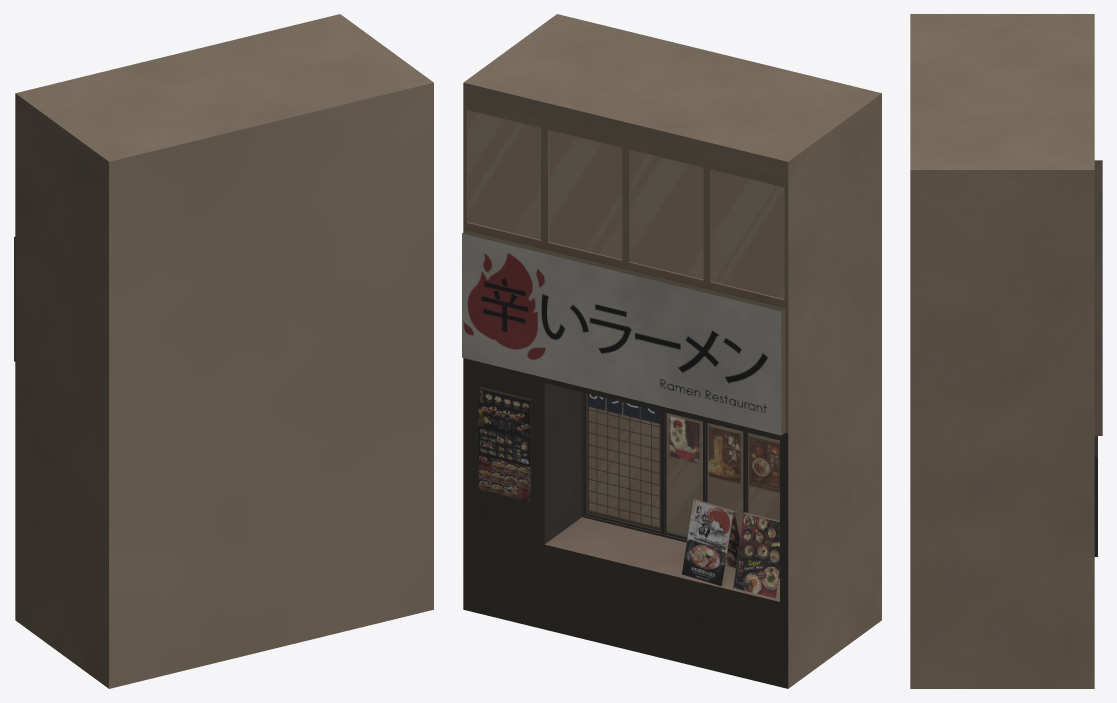
Rendered from shop03.dae.
3 renders of one model, left to right at view 1: azimuth 30°, elevation 25°; view 2: azimuth 150°, elevation 25°; view 3: azimuth 270°, elevation 25°, orthographic.
Parts seen in each view (by area): view 1: shop03; view 2: shop03; view 3: shop03.
Boxes of the visible parts, x1,y1,x2,y2 form: shop03: [14, 14, 433, 688]; shop03: [462, 14, 881, 688]; shop03: [910, 14, 1102, 688].
Bounding box in the file's own units: 4 × 6.2 × 2.09.
